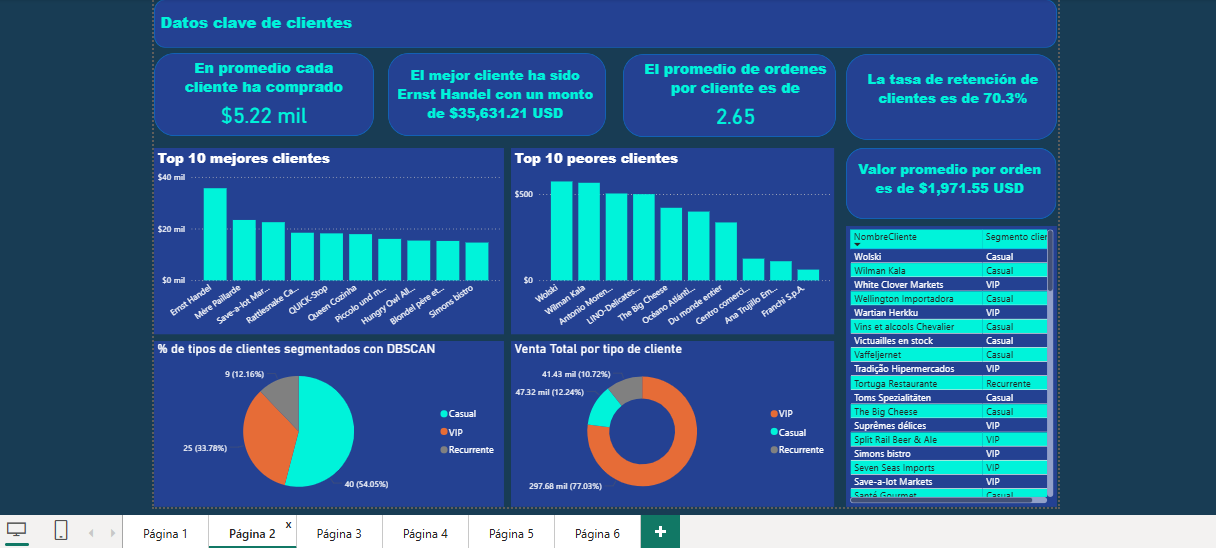

Layout of this report page (visuals, bound fields, positions):
{"tool":"powerbi","page":{"name":"Página 2","canvas":[1280,720],"ordinal":1},"visuals":[{"type":"group","id":"g1","title":"Grupo 1","box":[0,0,1279.8,69.4],"z":0},{"type":"shape","box":[0,0,1279.8,69.4],"z":0,"group":"g1"},{"type":"shape","box":[0,76.5,311.8,117.6],"z":0,"group":"g2"},{"type":"shape","box":[331.7,76.5,309,117.6],"z":0,"group":"g3"},{"type":"shape","box":[665,78,301.9,117.6],"z":0,"group":"g4"},{"type":"shape","box":[980.8,78,299.1,121.9],"z":0,"group":"g5"},{"type":"shape","box":[981,211.7,298.4,100.6],"z":0,"group":"g6"},{"type":"textbox","box":[4.3,12.8,1269.9,45.4],"z":1000,"group":"g1"},{"type":"group","id":"g2","title":"Grupo 2","box":[0,76.5,311.8,117.6],"z":1000},{"type":"card","title":"En promedio cada cliente ha comprado","fields":{"Values":["Avg(Ventas_cliente.Monto)"]},"box":[11.6,82.2,288.5,106.3],"z":1000,"group":"g2"},{"type":"card","title":"El promedio de ordenes por cliente es de","fields":{"Values":["Avg(Ventas_cliente.NumeroDeOrdenes)"]},"box":[686.3,83.7,276.4,106.3],"z":1000,"group":"g4"},{"type":"textbox","box":[339.2,89.5,289.8,92],"z":1000,"group":"g3"},{"type":"textbox","box":[992.6,95.6,280.5,92],"z":1000,"group":"g5"},{"type":"textbox","box":[988.3,222.8,279.8,78.7],"z":1000,"group":"g6"},{"type":"group","id":"g3","title":"Grupo 2","box":[331.7,76.5,309,117.6],"z":2000},{"type":"group","id":"g4","title":"Grupo 2","box":[665,78,301.9,117.6],"z":3000},{"type":"group","id":"g5","title":"Grupo 2","box":[980.8,78,299.1,121.9],"z":4000},{"type":"group","id":"g6","title":"Grupo 2","box":[981,211.7,299,100.8],"z":5000},{"type":"clusteredColumnChart","title":"Top 10 mejores clientes","fields":{"Category":["Ventas_cliente.NombreCliente"],"Y":["Sum(Ventas_cliente.Monto)"]},"box":[0,211.2,496.1,263.6],"z":6000},{"type":"clusteredColumnChart","title":"Top 10 peores clientes","fields":{"Category":["Ventas_cliente.NombreCliente"],"Y":["Sum(Ventas_cliente.Monto)"]},"box":[506,211.2,457.8,263.6],"z":7000},{"type":"pieChart","title":"% de tipos de clientes segmentados con DBSCAN","fields":{"Y":["CountNonNull(Northwind_Clustered.NombreCliente)"],"Category":["Northwind_Clustered.Segmento cliente"]},"box":[0,484.7,496.1,235.3],"z":8000},{"type":"donutChart","title":"Venta Total por tipo de cliente","fields":{"Category":["Northwind_Clustered.Segmento cliente"],"Y":["Northwind_Clustered.Venta Total"]},"box":[506,484.7,457.8,235.3],"z":9000},{"type":"tableEx","fields":{"Values":["Northwind_Clustered.NombreCliente","Northwind_Clustered.Segmento cliente"]},"box":[980.8,321.7,299.1,398.3],"z":10000}]}

Visuals, with their boxes on the page's 1280x720 design canvas (x1, y1, x2, y2). These are canvas units, not pixel positions in the 1216x548 screenshot, which may show the page scaled, cropped or inside an application window:
"Grupo 1" group: pyautogui.locateOnScreen(0, 0, 1280, 69)
shape: pyautogui.locateOnScreen(0, 0, 1280, 69)
shape: pyautogui.locateOnScreen(0, 76, 312, 194)
shape: pyautogui.locateOnScreen(332, 76, 641, 194)
shape: pyautogui.locateOnScreen(665, 78, 967, 196)
shape: pyautogui.locateOnScreen(981, 78, 1280, 200)
shape: pyautogui.locateOnScreen(981, 212, 1279, 312)
textbox: pyautogui.locateOnScreen(4, 13, 1274, 58)
"Grupo 2" group: pyautogui.locateOnScreen(0, 76, 312, 194)
"En promedio cada cliente ha comprado" card: pyautogui.locateOnScreen(12, 82, 300, 188)
"El promedio de ordenes por cliente es de" card: pyautogui.locateOnScreen(686, 84, 963, 190)
textbox: pyautogui.locateOnScreen(339, 90, 629, 182)
textbox: pyautogui.locateOnScreen(993, 96, 1273, 188)
textbox: pyautogui.locateOnScreen(988, 223, 1268, 302)
"Grupo 2" group: pyautogui.locateOnScreen(332, 76, 641, 194)
"Grupo 2" group: pyautogui.locateOnScreen(665, 78, 967, 196)
"Grupo 2" group: pyautogui.locateOnScreen(981, 78, 1280, 200)
"Grupo 2" group: pyautogui.locateOnScreen(981, 212, 1280, 312)
"Top 10 mejores clientes" clusteredColumnChart: pyautogui.locateOnScreen(0, 211, 496, 475)
"Top 10 peores clientes" clusteredColumnChart: pyautogui.locateOnScreen(506, 211, 964, 475)
"% de tipos de clientes segmentados con DBSCAN" pieChart: pyautogui.locateOnScreen(0, 485, 496, 720)
"Venta Total por tipo de cliente" donutChart: pyautogui.locateOnScreen(506, 485, 964, 720)
tableEx - Northwind_Clustered.NombreCliente x Northwind_Clustered.Segmento cliente: pyautogui.locateOnScreen(981, 322, 1280, 720)
